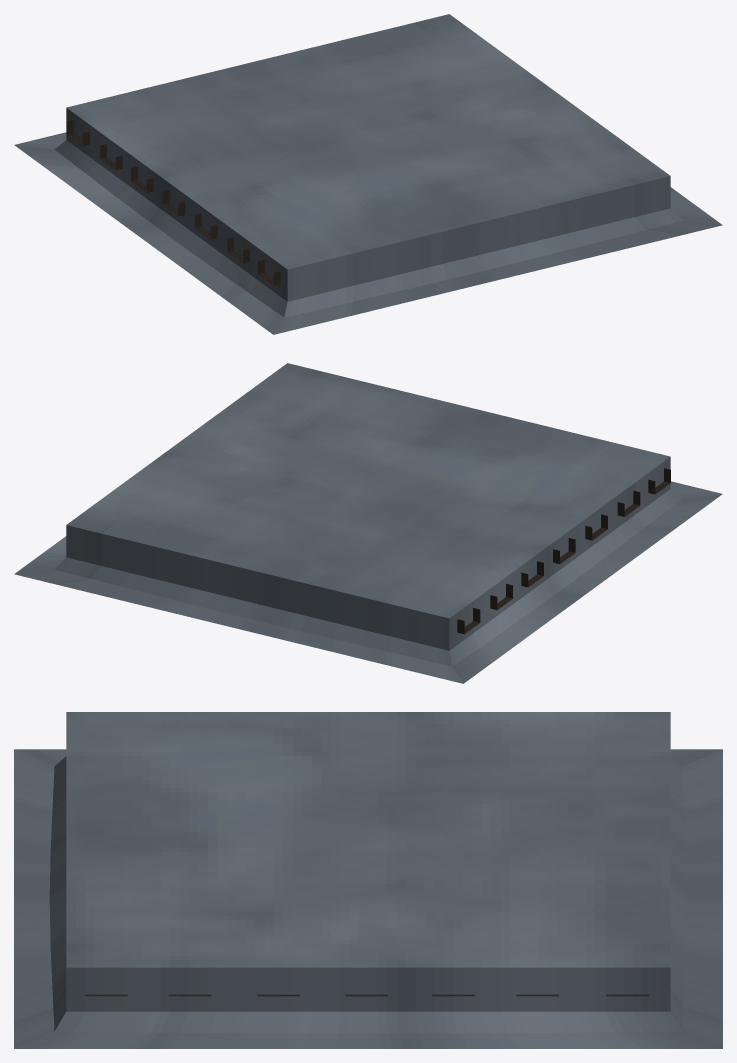
File: ceiling.FBX
3 renders of one model, top to bottom at view 1: azimuth 30°, elevation 25°; view 2: azimuth 150°, elevation 25°; view 3: azimuth 270°, elevation 25°, orthographic. The views are drawn at different scales.
Visible parts, largest first — view 1: ceiling, Box007; view 2: ceiling, Box007; view 3: ceiling, Box007.
Boxes of the visible parts, x1,y1,x2,y2 form: ceiling: (14, 14, 722, 334); Box007: (67, 120, 280, 285); ceiling: (14, 363, 722, 683); Box007: (457, 468, 670, 634); ceiling: (14, 712, 722, 1048); Box007: (85, 994, 648, 996).
Bounding box in the file's own units: 800 × 73.7 × 800.
